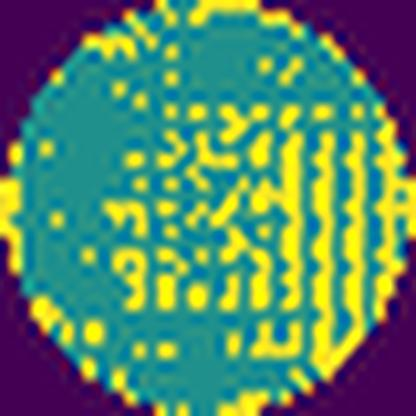Random: (96, 89, 416, 416)
